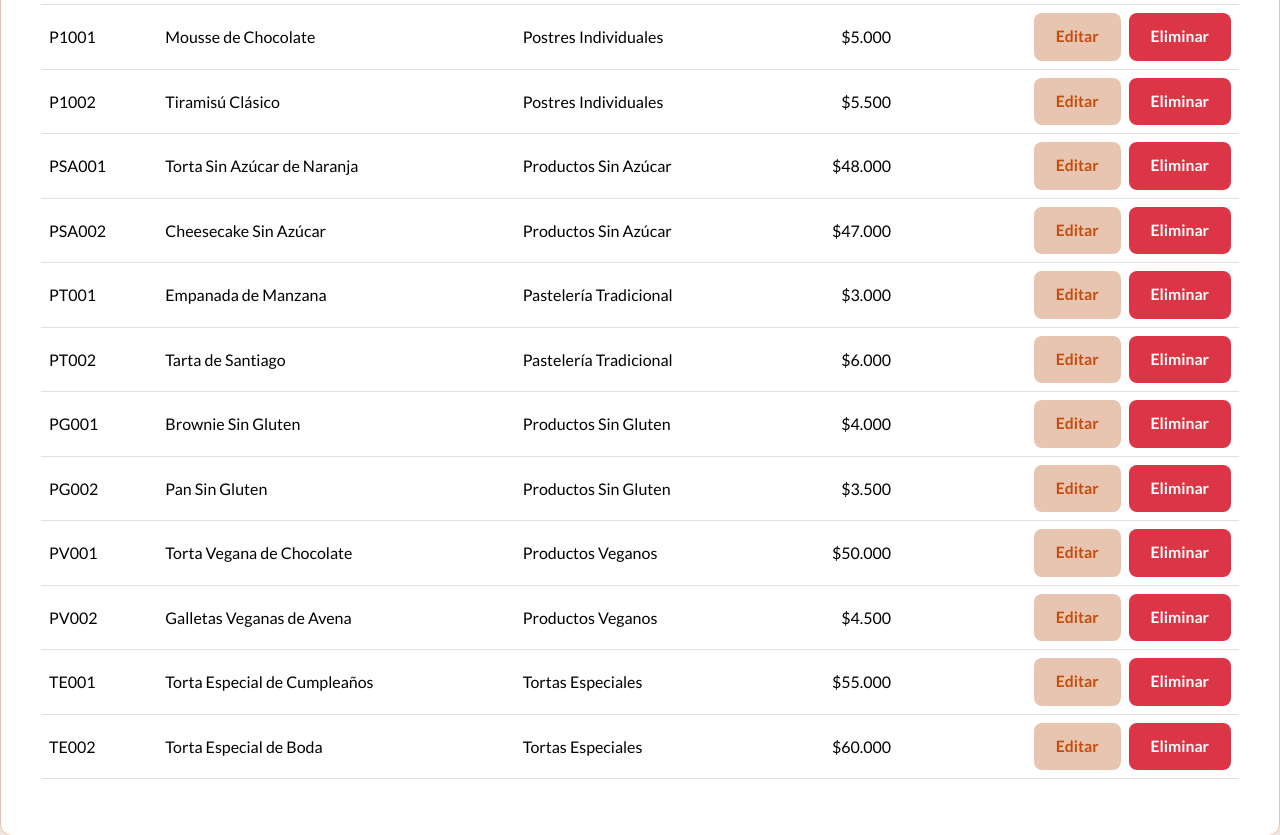
Scenario: Panel de Administración - Productos › Debe eliminar un producto después de confirmar
(page scrolled)
Click the button "Eliminar" in the row of "PG002" at x=1180, y=489, box [1129,465,1231,512]
(page scrolled)
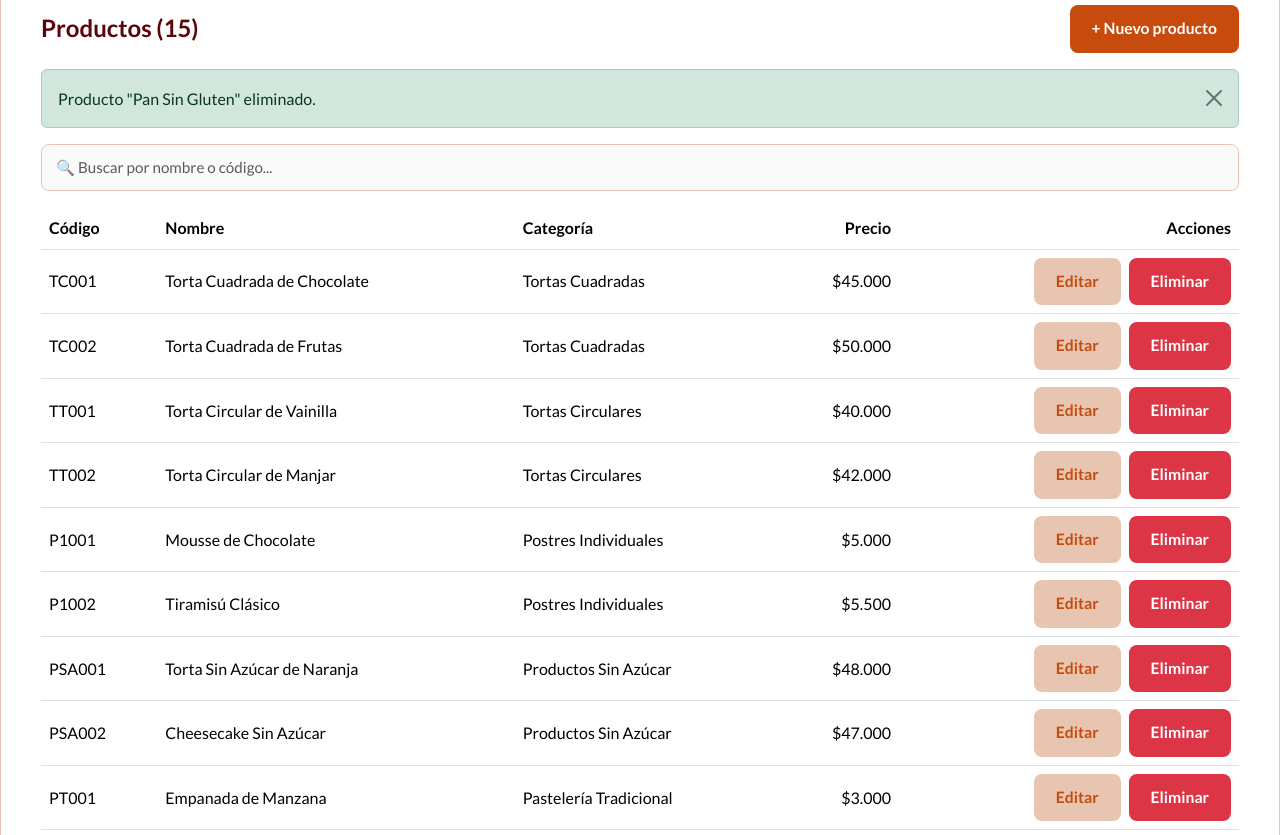
Now the heading "Productos (15)" is shown, box [41,14,198,43]
